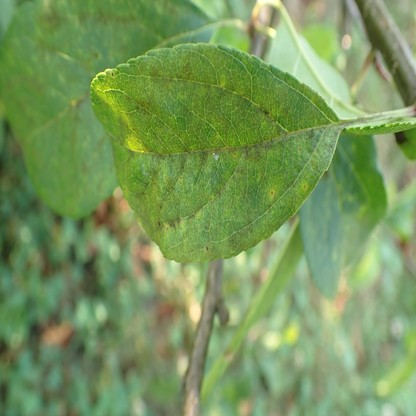scab: (110, 61, 337, 249), (1, 1, 179, 213)
